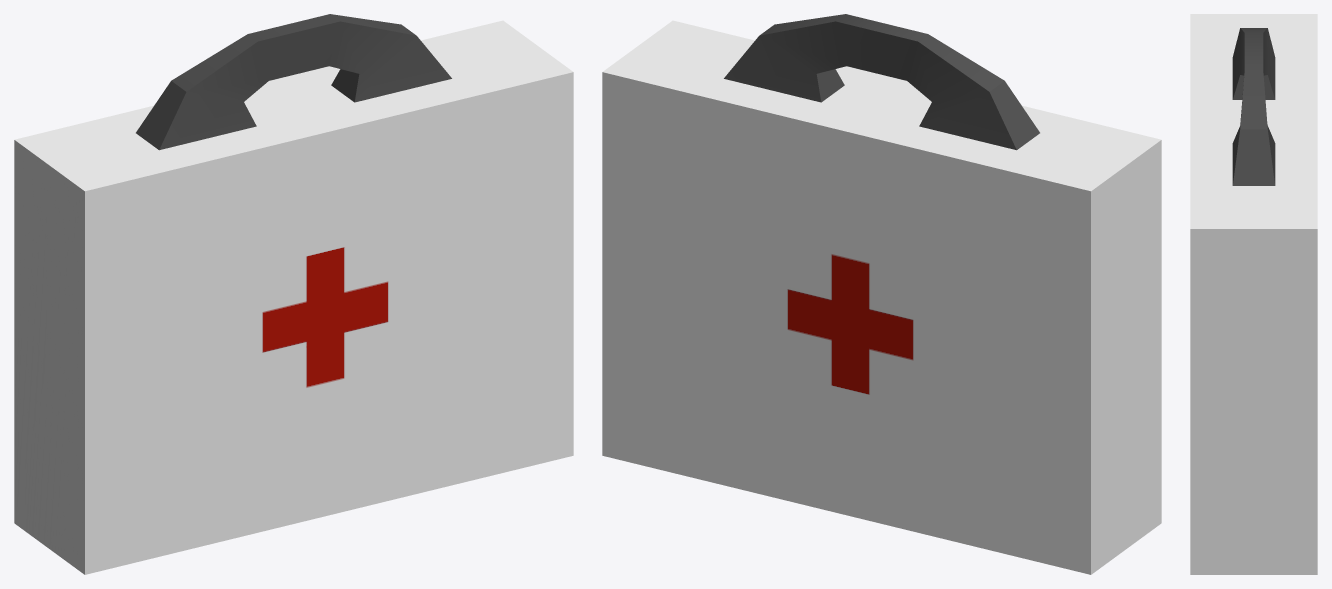
File: Valigietta_Health_Pickup.fbx
3 renders of one model, left to right at view 1: azimuth 30°, elevation 25°; view 2: azimuth 150°, elevation 25°; view 3: azimuth 270°, elevation 25°, orthographic. The views are drawn at different scales.
Visible parts, largest first — view 1: Valigietta; view 2: Valigietta; view 3: Valigietta.
Part boxes in pixels (x1,y1,x2,y2): Valigietta: [14, 14, 573, 574]; Valigietta: [602, 14, 1161, 574]; Valigietta: [1190, 14, 1317, 574].
Bounding box in the file's own units: 2 × 1.81 × 0.5.
Materials: 1 (1 with a texture image).
